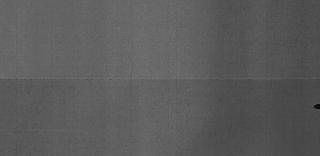punching hole: (313, 103, 319, 111)
